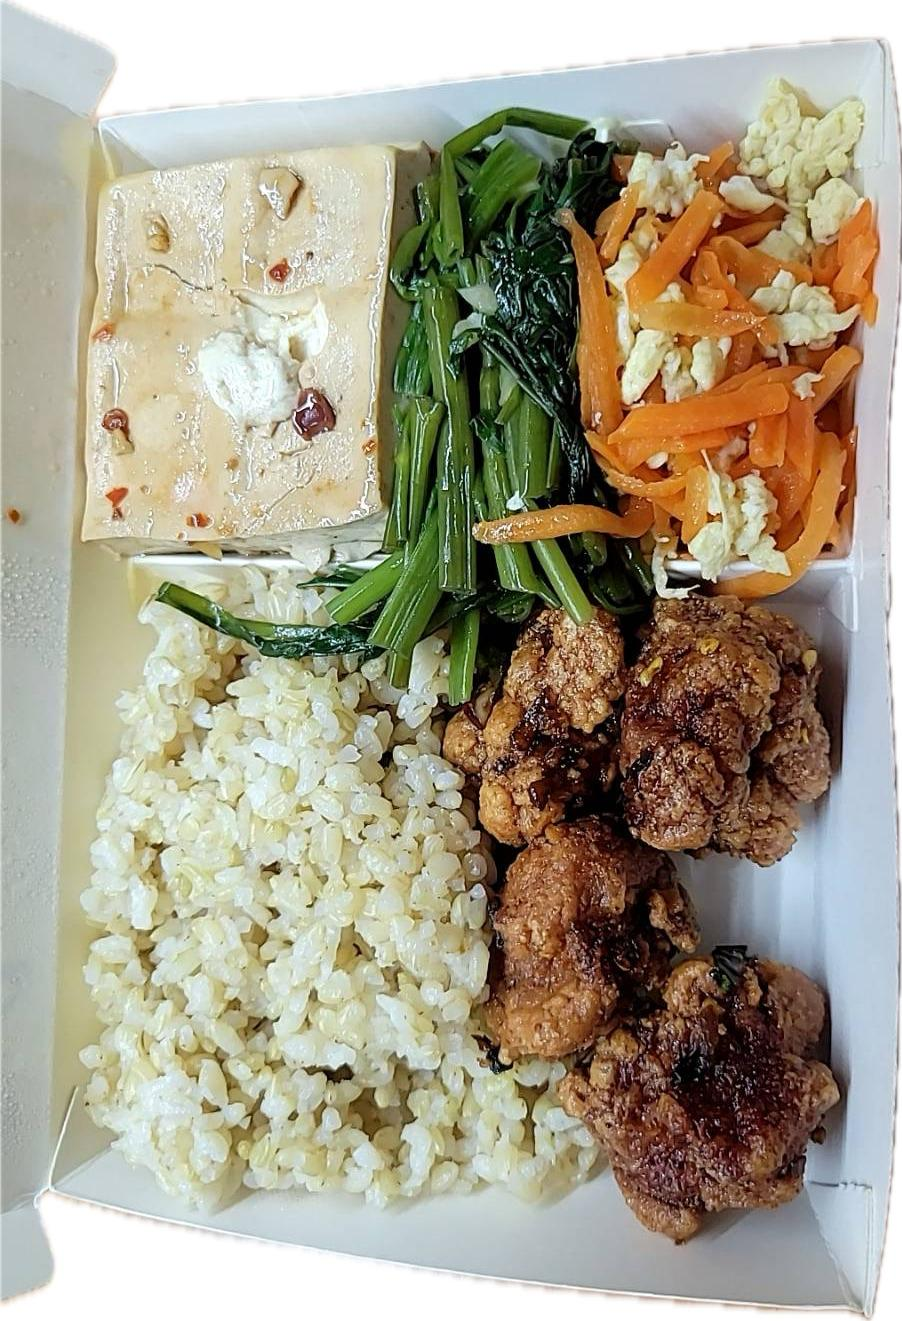big grilled chicken leg: (21, 4, 902, 1321)
box: (60, 571, 599, 1210)
braised fish fillet: (544, 76, 884, 588), (377, 92, 625, 693), (67, 124, 412, 546)
braised pork: (468, 594, 863, 1255)
